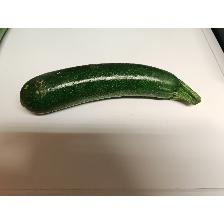Zucchini: (18, 61, 202, 117)
